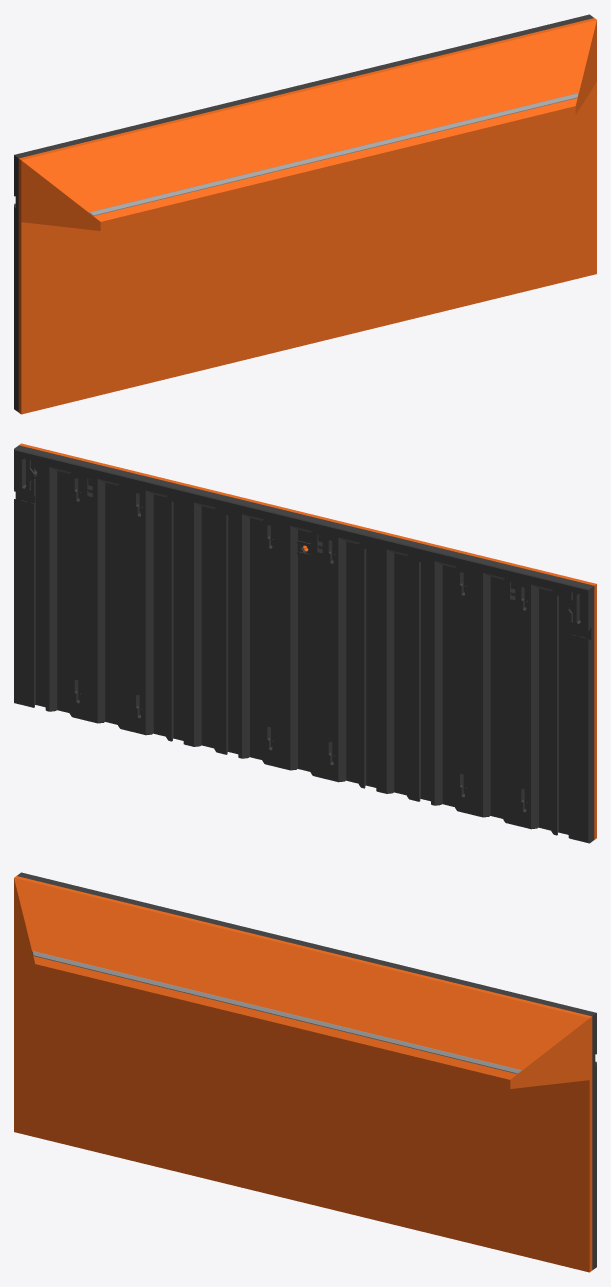
File: Faceplate_ClassicDecor_3W-2H.lib.glb
3 renders of one model, top to bottom at view 1: azimuth 30°, elevation 25°; view 2: azimuth 150°, elevation 25°; view 3: azimuth 330°, elevation 25°, orthographic.
Parts seen in each view (by area): view 1: Faceplate_ClassicDecor_3W-2H; view 2: Faceplate_ClassicDecor_3W-2H; view 3: Faceplate_ClassicDecor_3W-2H.
Boxes of the visible parts, box(x1,y1,x2,y2) form: Faceplate_ClassicDecor_3W-2H: box(14, 14, 596, 414); Faceplate_ClassicDecor_3W-2H: box(14, 443, 596, 843); Faceplate_ClassicDecor_3W-2H: box(14, 872, 596, 1272).
Size of the model in its own units: 263 by 111 by 29.18.
